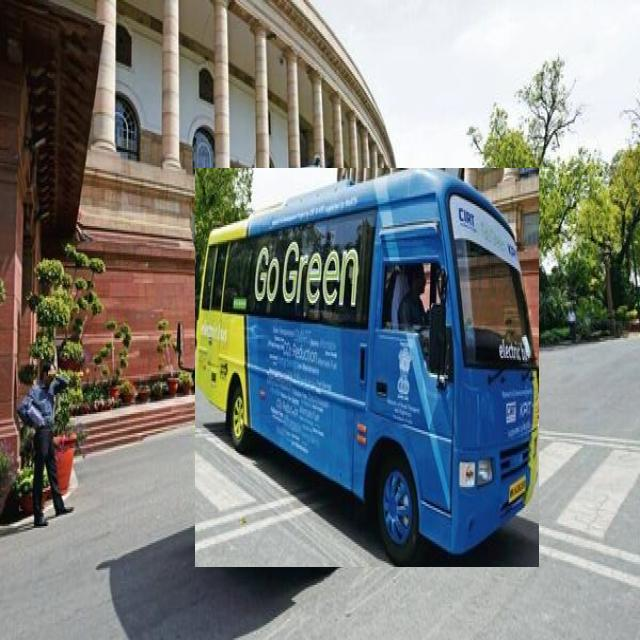bus: (195, 169, 539, 567)
